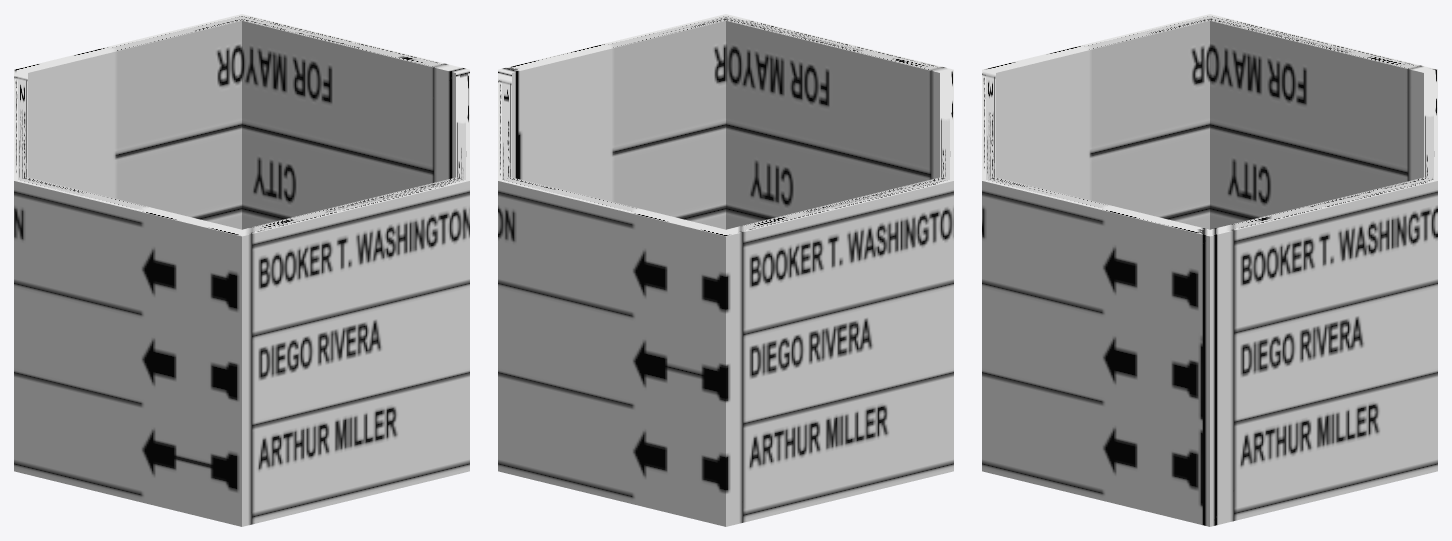
Rendered from hexagon.obj.
3 renders of one model, left to right at view 1: azimuth 30°, elevation 25°; view 2: azimuth 150°, elevation 25°; view 3: azimuth 270°, elevation 25°, orthographic.
Visible parts, largest first — view 1: pPipe1; view 2: pPipe1; view 3: pPipe1.
Part boxes in pixels (x1,y1,x2,y2): pPipe1: (14, 14, 469, 526); pPipe1: (498, 14, 953, 526); pPipe1: (982, 14, 1437, 526).
Bounding box in the file's own units: 16.43 × 10 × 14.23.
